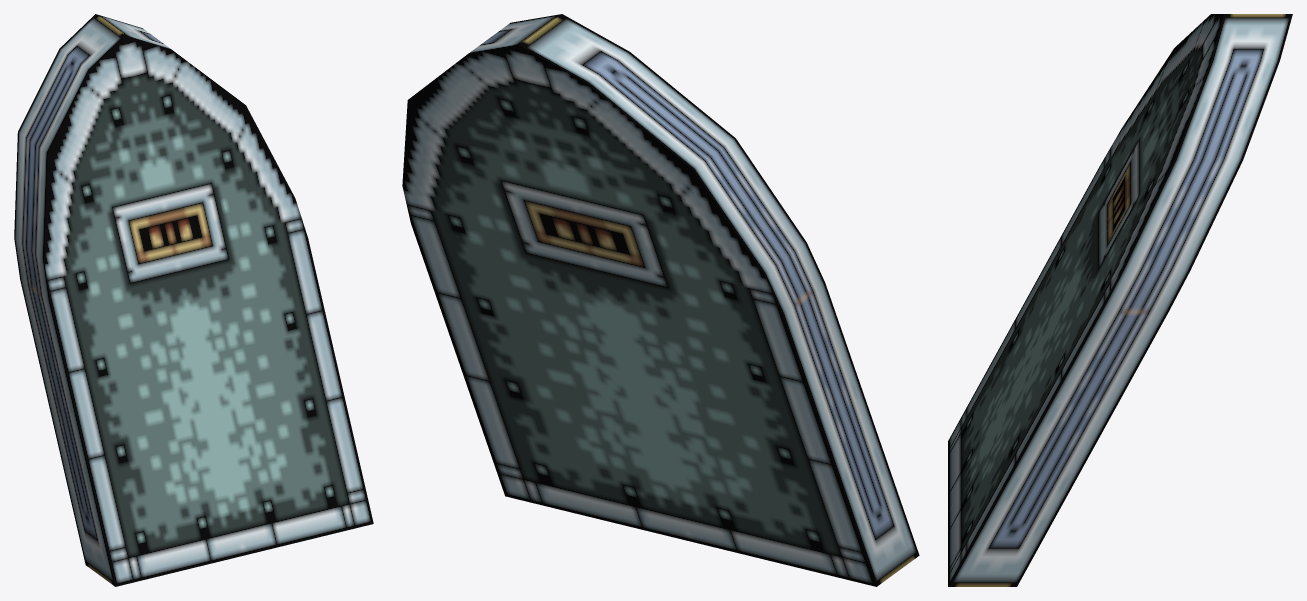
Rendered from deco_cathedral_door_B.FBX.
3 renders of one model, left to right at view 1: azimuth 30°, elevation 25°; view 2: azimuth 150°, elevation 25°; view 3: azimuth 270°, elevation 25°, orthographic. The views are drawn at different scales.
Visible parts, largest first — view 1: deco_cathedral_door_B; view 2: deco_cathedral_door_B; view 3: deco_cathedral_door_B.
Boxes of the visible parts, box(x1,y1,x2,y2) form: deco_cathedral_door_B: box(14, 14, 373, 586); deco_cathedral_door_B: box(402, 14, 919, 586); deco_cathedral_door_B: box(948, 14, 1292, 586).
Bounding box in the file's own units: 2 × 3.2 × 2.
Materials: 1 (1 with a texture image).
